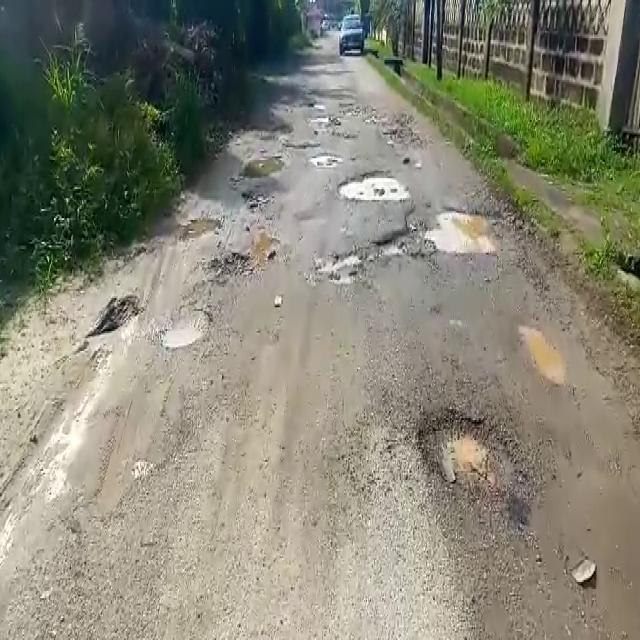pothole: (414, 410, 506, 498), (312, 237, 390, 285), (422, 208, 498, 256), (335, 169, 413, 201), (157, 311, 212, 350), (307, 150, 342, 165)
